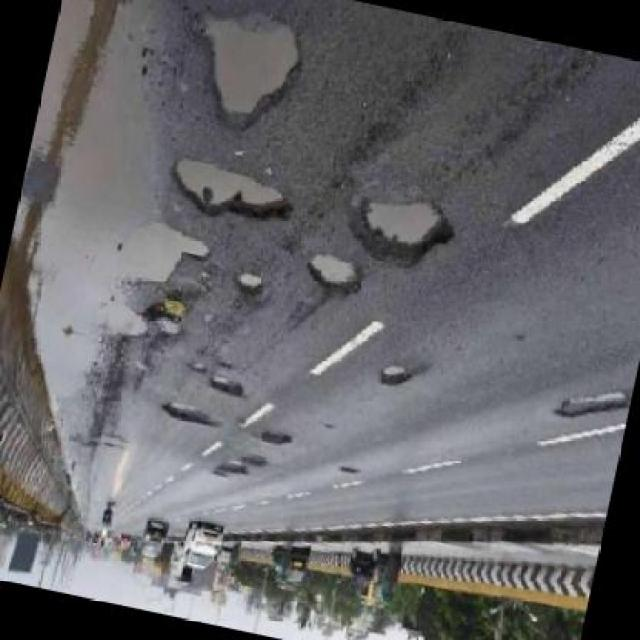pothole1: (174, 5, 309, 144), (162, 153, 298, 236), (342, 188, 458, 278), (124, 222, 213, 301), (552, 378, 630, 436), (301, 251, 364, 303), (209, 444, 269, 493), (158, 400, 220, 432), (377, 359, 414, 393), (258, 426, 294, 454), (204, 373, 242, 399), (231, 271, 263, 298)
